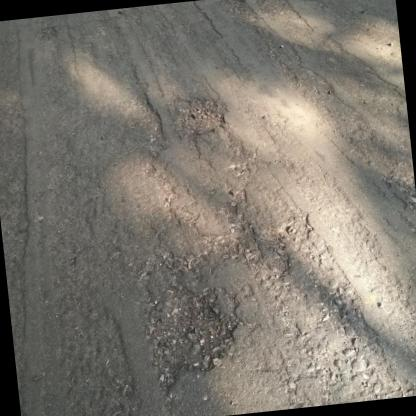pothole: (136, 283, 244, 390), (171, 90, 228, 139), (215, 0, 255, 21), (32, 23, 58, 41)
